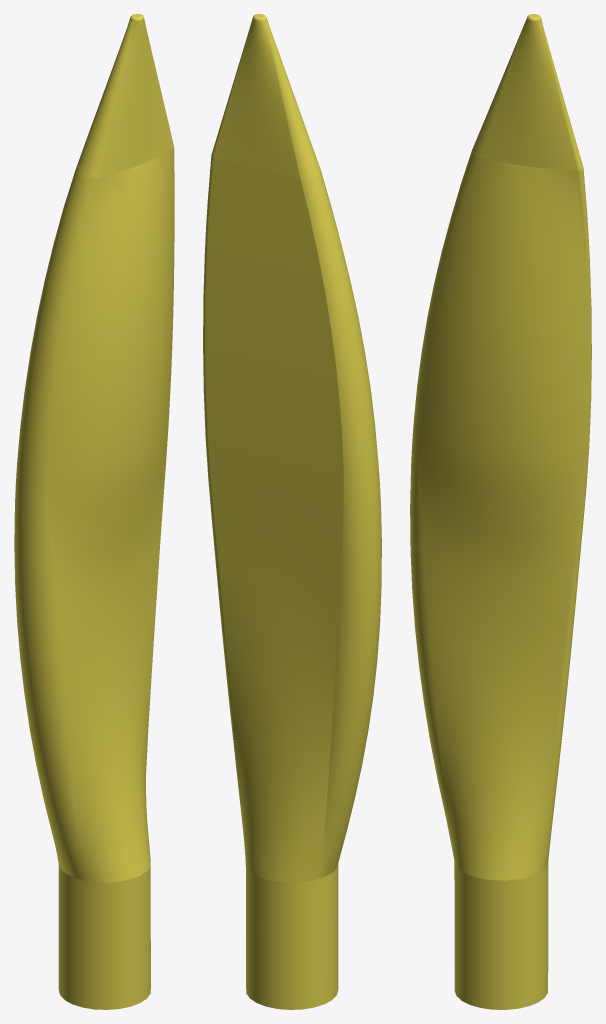
The model's file is Blades.obj.
The picture shows the model from 3 angles, left to right: view 1: azimuth 30°, elevation 25°; view 2: azimuth 150°, elevation 25°; view 3: azimuth 330°, elevation 25°; orthographic projection.
Parts seen in each view (by area): view 1: Solid1; view 2: Solid1; view 3: Solid1.
Part boxes in pixels (x1,y1,x2,y2): Solid1: (14,14,174,1009); Solid1: (203,14,381,1009); Solid1: (410,14,591,1009).
Bounding box in the file's own units: 33.98 × 190 × 16.47.
